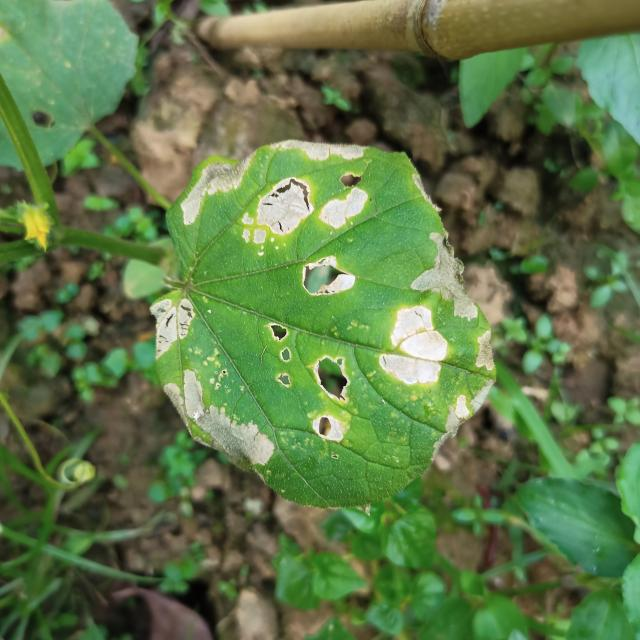disease_cucumber: (293, 229, 499, 466), (144, 284, 296, 505), (177, 140, 364, 298)
